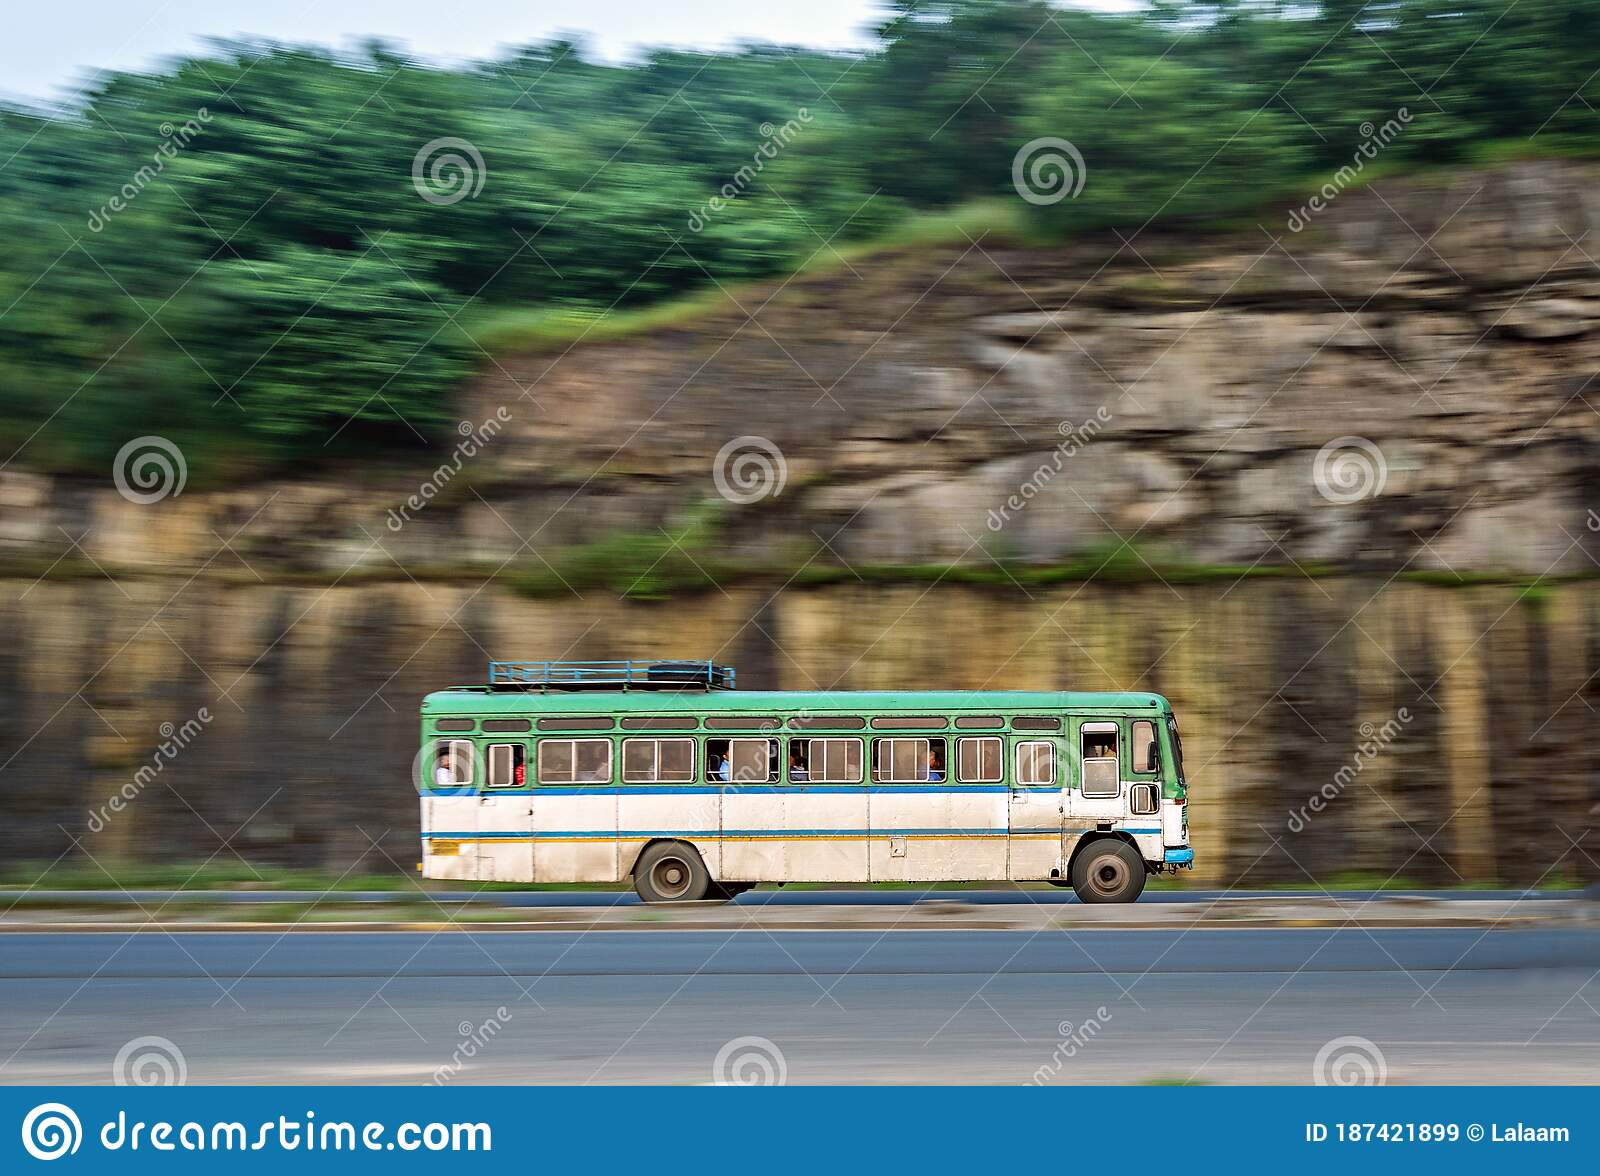bus: (388, 645, 1210, 921)
